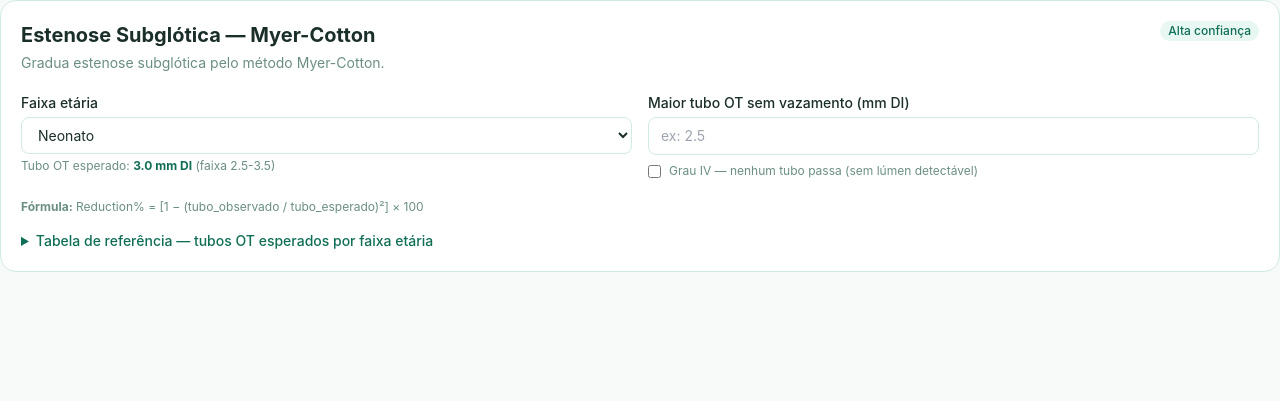
Test case: MyCottonCalculator — interação › resultado muda corretamente entre graus
Select "Escolar" in the dropdown labelled "Faixa etária Tubo OT esperado: 3.0 mm DI (faixa 2.5-3.5)": (326, 136) [21, 117, 632, 154]
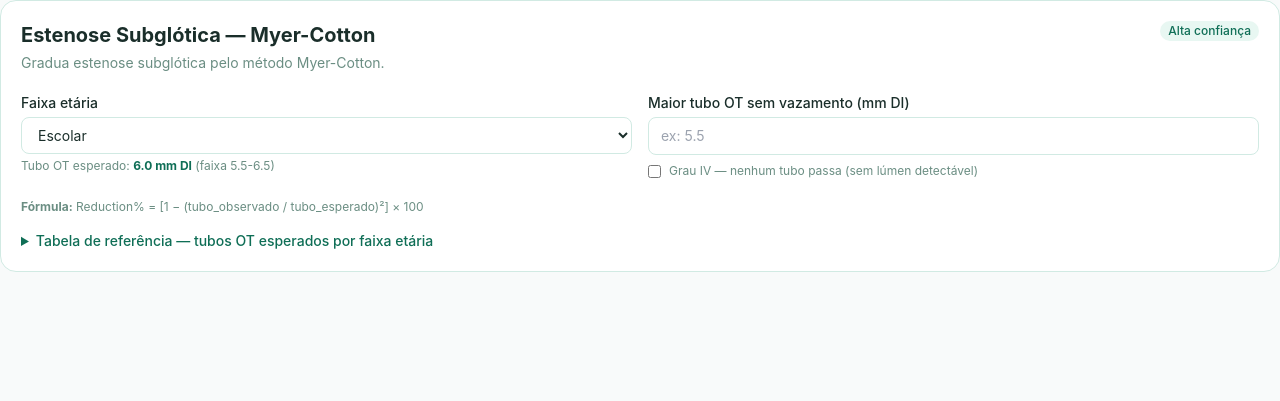
# Grau I: obs 5.0 / exp 6.0 → reduction ≈ 30.6%
In the number field labelled "Maior tubo": (954, 136) [648, 117, 1259, 155], type "5.0"
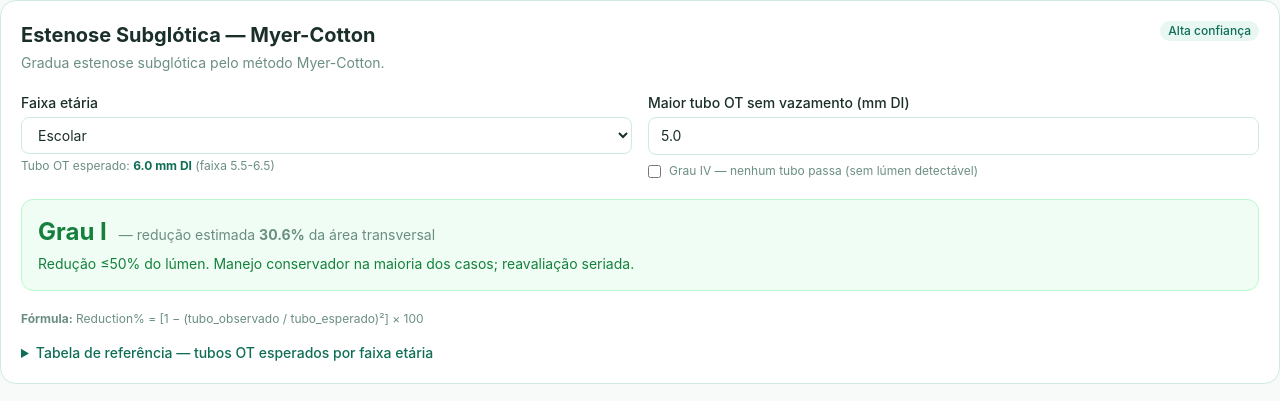
Expected: the message with test id "myer-cotton-result" shows "Grau I", [38, 217, 107, 246]
# Grau III: obs 2.0 / exp 6.0 → reduction ≈ 88.9%
Replace the text in the number field labelled "Maior tubo" with "2.0": (954, 136) [648, 117, 1259, 155]
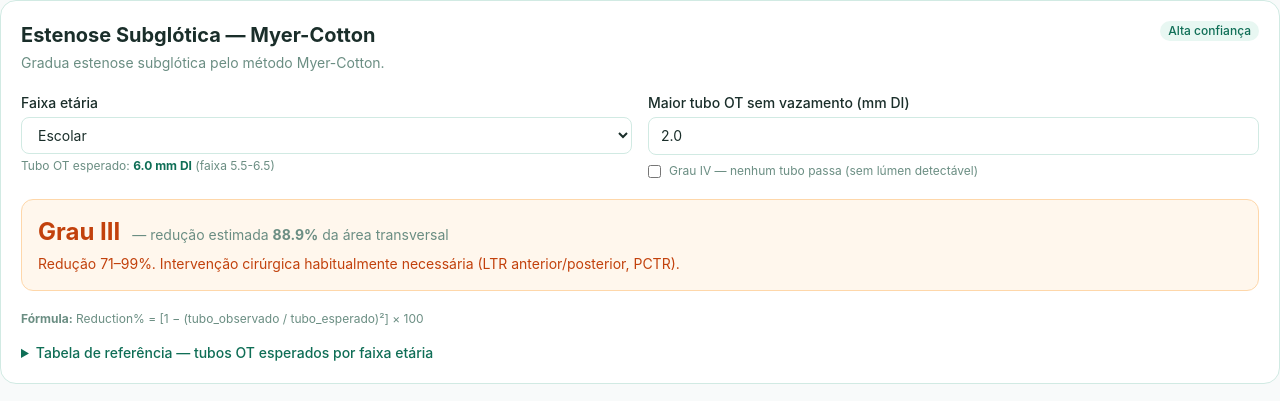
Expected: the message with test id "myer-cotton-result" shows "Grau III", [38, 217, 120, 246]
